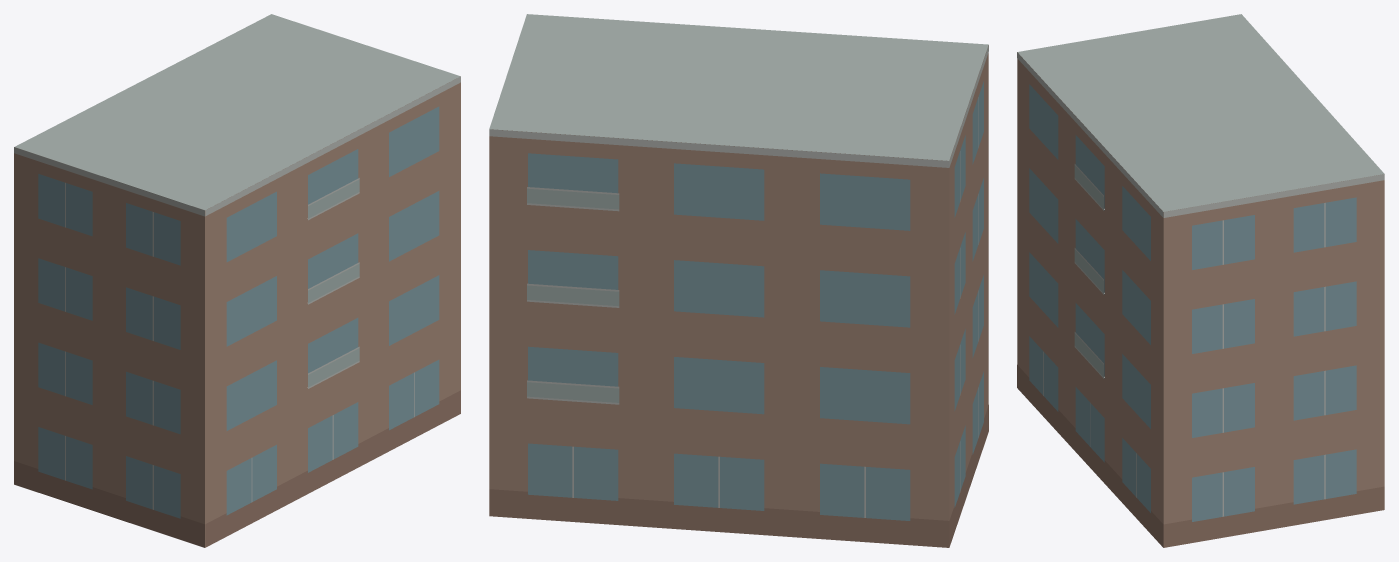
The model's file is survey-upis-32854931.glb.
3 renders of one model, left to right at view 1: azimuth 30°, elevation 25°; view 2: azimuth 150°, elevation 25°; view 3: azimuth 270°, elevation 25°, orthographic. The views are drawn at different scales.
Parts seen in each view (by area): view 1: survey-upis-32854931.tmp; view 2: survey-upis-32854931.tmp; view 3: survey-upis-32854931.tmp.
Part boxes in pixels (x1,y1,x2,y2): survey-upis-32854931.tmp: (14, 14, 460, 547); survey-upis-32854931.tmp: (489, 14, 988, 547); survey-upis-32854931.tmp: (1017, 14, 1384, 547).
Size of the model in its own units: 16.88 by 13.35 by 13.25.
